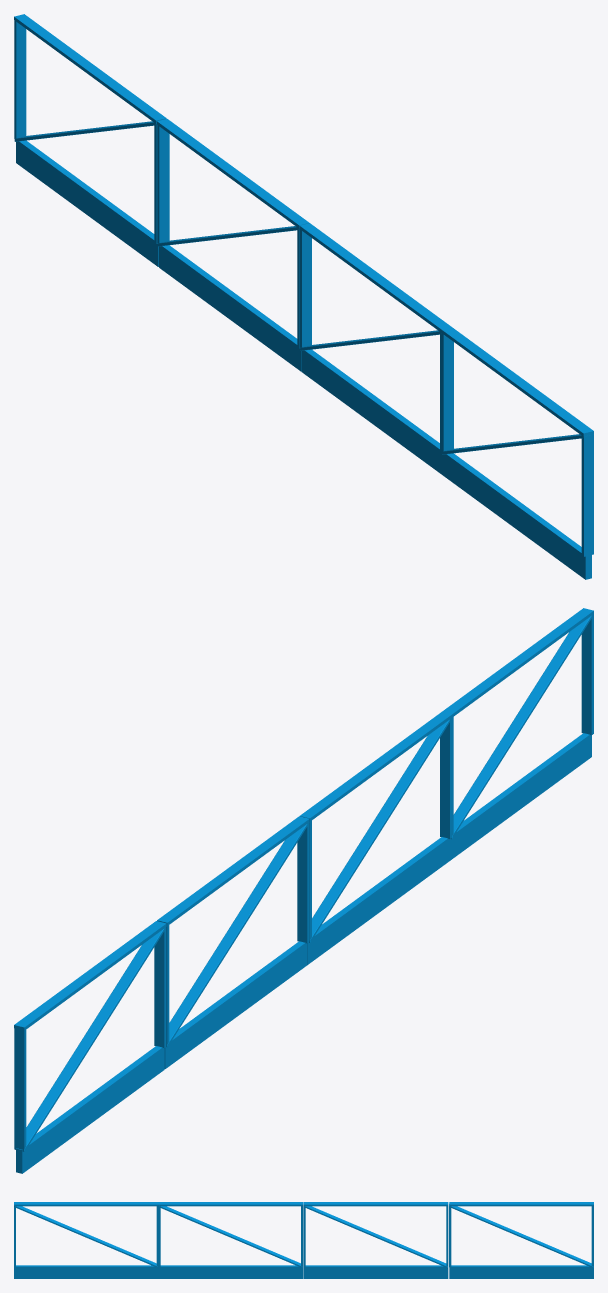
The model's file is Metal_Floor_Rail_x4.fbx.
The picture shows the model from 3 angles, top to bottom: view 1: azimuth 30°, elevation 25°; view 2: azimuth 150°, elevation 25°; view 3: azimuth 270°, elevation 25°; orthographic projection. The views are drawn at different scales.
Visible parts, largest first — view 1: Metal_Floor_Rail_x4; view 2: Metal_Floor_Rail_x4; view 3: Metal_Floor_Rail_x4.
Boxes of the visible parts, left/top/right/bottom form: Metal_Floor_Rail_x4: left=14, top=14, right=593, bottom=579; Metal_Floor_Rail_x4: left=14, top=608, right=593, bottom=1173; Metal_Floor_Rail_x4: left=14, top=1202, right=593, bottom=1278.
Bounding box in the file's own units: 6.42 × 85.47 × 601.
